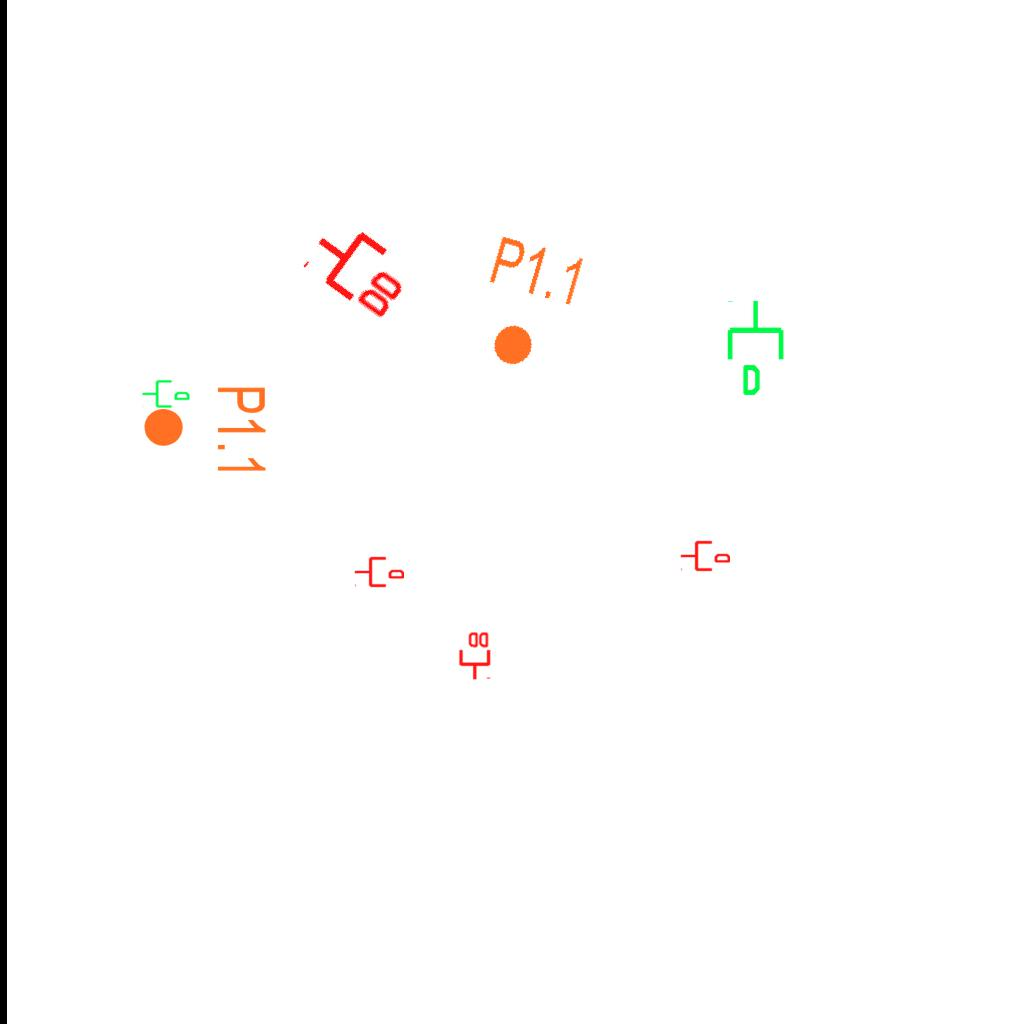Datenanschluss_einfach: (723, 298, 792, 398), (354, 555, 404, 589), (141, 376, 191, 410), (680, 539, 730, 573)
Datenanschluss_zweifach: (298, 209, 423, 326), (457, 630, 491, 681)
Downlight_LED_Einbauleuchten_Flur: (465, 231, 590, 381), (141, 384, 269, 477)
